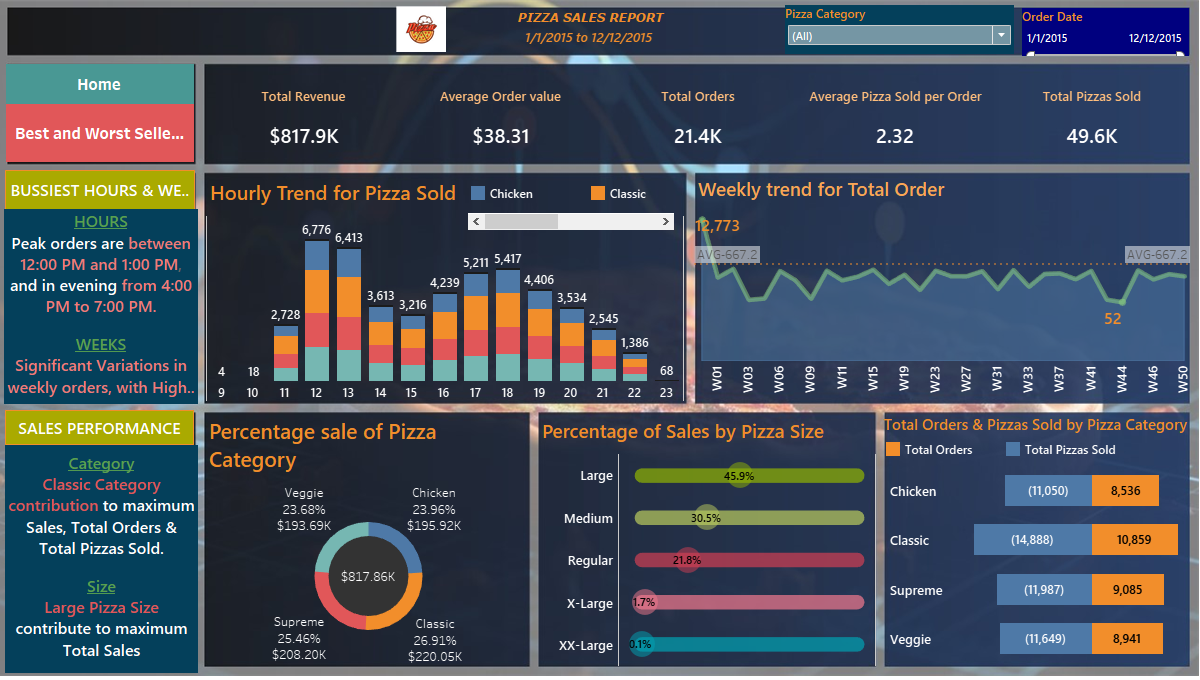

The page's visual inventory and layout, read from the dashboard file:
{"tool":"tableau","page":{"name":"Dashboard 1","canvas":[1600,900],"ordinal":1},"visuals":[{"type":"image","param":"Image/Pizza Tableau 1.jpg","box":[8,8,1584,884]},{"type":"filter","title":"Hourly Trend for Pizza Sold","param":"[federated.15972bk10x92cb13c5ke60wku6ts].[none:pizza_category:nk]","box":[1166,21,229,63]},{"type":"filter","title":"Hourly Trend for Pizza Sold","param":"[federated.15972bk10x92cb13c5ke60wku6ts].[none:order_date:qk]","box":[1399,22,167,62]},{"type":"image","param":"Image/pizzaimage.jpg","box":[563,23,119,59]},{"type":"text","box":[716,23,181,30]},{"type":"worksheet","title":"Date Range","mark":"Automatic","box":[627,45,321,35]},{"type":"dashboard-object","box":[30,95,246,58]},{"type":"worksheet","title":"KPI Banner","mark":"Automatic","box":[289,128,1277,87]},{"type":"dashboard-object","box":[31,155,246,70]},{"type":"text","box":[32,235,247,45]},{"type":"worksheet","title":"Weekly trend for Total Order","mark":"Area","rows":["Calculation_347621642253770754","Calculation_347621642253770754"],"cols":["order_date"],"box":[924,235,641,296]},{"type":"worksheet","title":"Hourly Trend for Pizza Sold","mark":"Bar","rows":["Calculation_347621642254508036","Calculation_347621642254508036"],"cols":["order_time"],"box":[287,236,625,296]},{"type":"legend","title":"Hourly Trend for Pizza Sold","param":"[federated.15972bk10x92cb13c5ke60wku6ts].[none:pizza_category:nk]","box":[683,240,339,41]},{"type":"text","box":[31,280,247,253]},{"type":"worksheet","title":"Percentage sale of Pizza Category","mark":"Pie","rows":["Calculation_519039903404466177","Calculation_519039903404560387"],"box":[289,545,423,293]},{"type":"text","box":[1171,545,323,30]},{"type":"worksheet","title":"Percentage of Sales by Pizza Size","mark":"Line","rows":["pizza_size"],"box":[722,546,437,327]},{"type":"text","box":[33,548,242,45]},{"type":"text","box":[32,583,247,293]},{"type":"legend","title":"Total Orders & Pizza sold by Category","param":"[federated.15972bk10x92cb13c5ke60wku6ts].[:Measure Names]","box":[1185,586,340,30]},{"type":"worksheet","title":"Total Orders & Pizza sold by Category","mark":"Automatic","rows":["pizza_category"],"box":[1171,620,394,254]}]}

Visuals, with their boxes in screenshot pixels (x1, y1, x2, y2), scaled from the page's 1600x900 canvas onto the 1200x680 screenshot:
image: <box>6,6,1194,674</box>
"Hourly Trend for Pizza Sold" filter: <box>874,16,1046,63</box>
"Hourly Trend for Pizza Sold" filter: <box>1049,17,1174,63</box>
image: <box>422,17,512,62</box>
text: <box>537,17,673,40</box>
"Date Range" worksheet: <box>470,34,711,60</box>
dashboard-object: <box>22,72,207,116</box>
"KPI Banner" worksheet: <box>217,97,1174,162</box>
dashboard-object: <box>23,117,208,170</box>
text: <box>24,178,209,212</box>
"Weekly trend for Total Order" worksheet (Area marks): <box>693,178,1174,401</box>
"Hourly Trend for Pizza Sold" worksheet (Bar marks): <box>215,178,684,402</box>
"Hourly Trend for Pizza Sold" legend: <box>512,181,766,212</box>
text: <box>23,212,208,403</box>
"Percentage sale of Pizza Category" worksheet (Pie marks): <box>217,412,534,633</box>
text: <box>878,412,1120,434</box>
"Percentage of Sales by Pizza Size" worksheet (Line marks): <box>542,413,869,660</box>
text: <box>25,414,206,448</box>
text: <box>24,440,209,662</box>
"Total Orders & Pizza sold by Category" legend: <box>889,443,1144,465</box>
"Total Orders & Pizza sold by Category" worksheet: <box>878,468,1174,660</box>
